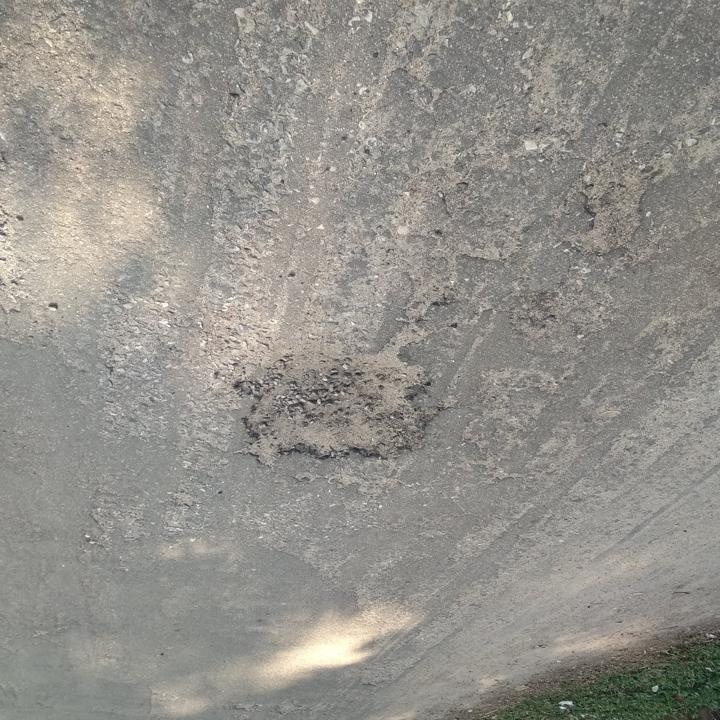pothole: (226, 332, 437, 471), (572, 169, 648, 254)
